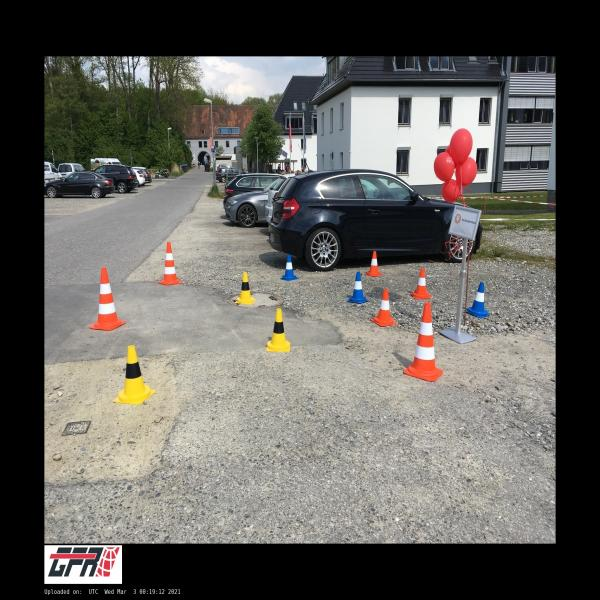blue_cone: (466, 282, 490, 318), (347, 272, 368, 304), (280, 255, 299, 280)
large_orange_cone: (403, 302, 443, 381), (89, 268, 126, 331), (158, 242, 182, 285)
orange_cone: (371, 289, 396, 326), (411, 268, 431, 299), (364, 251, 382, 276)
yellow_cone: (114, 346, 155, 405), (266, 308, 290, 352), (235, 272, 255, 304)
